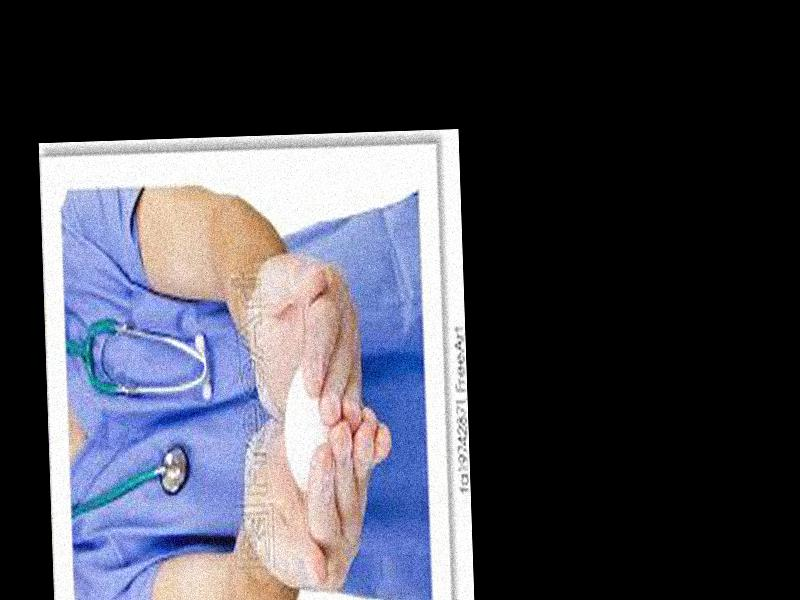Eggs: (282, 365, 334, 488)
